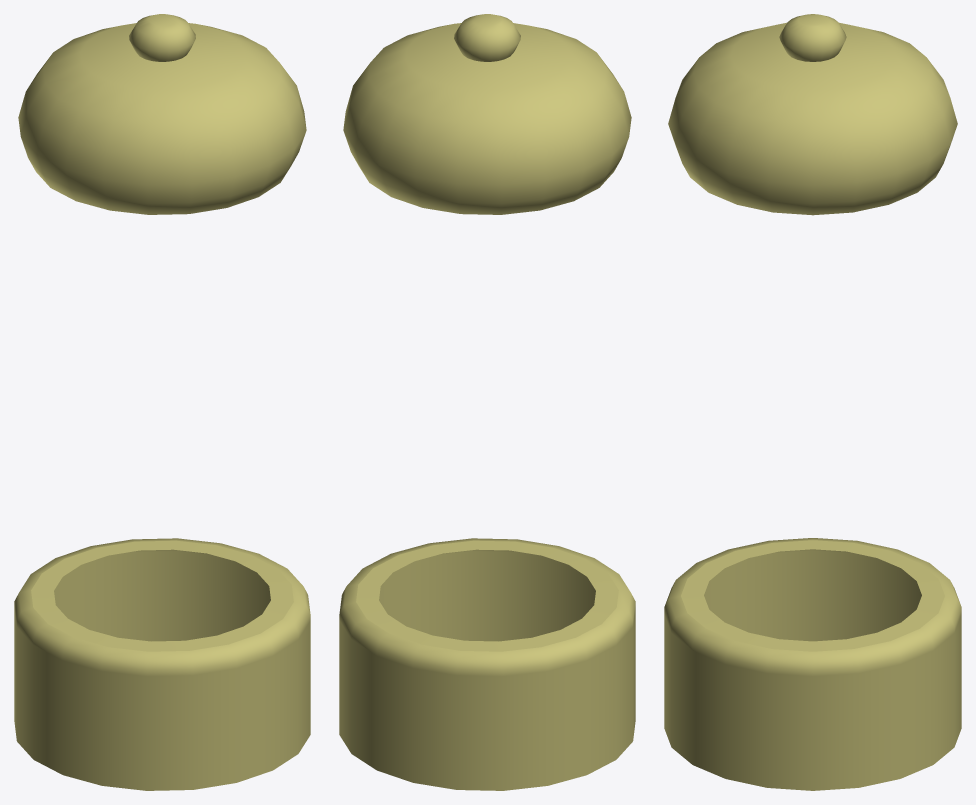
The model's file is Pepper_Shaker_2_1.obj.
The picture shows the model from 3 angles, left to right: view 1: azimuth 30°, elevation 25°; view 2: azimuth 150°, elevation 25°; view 3: azimuth 270°, elevation 25°; orthographic projection.
Size of the model in its own units: 0.0728 by 0.1916 by 0.0728.
